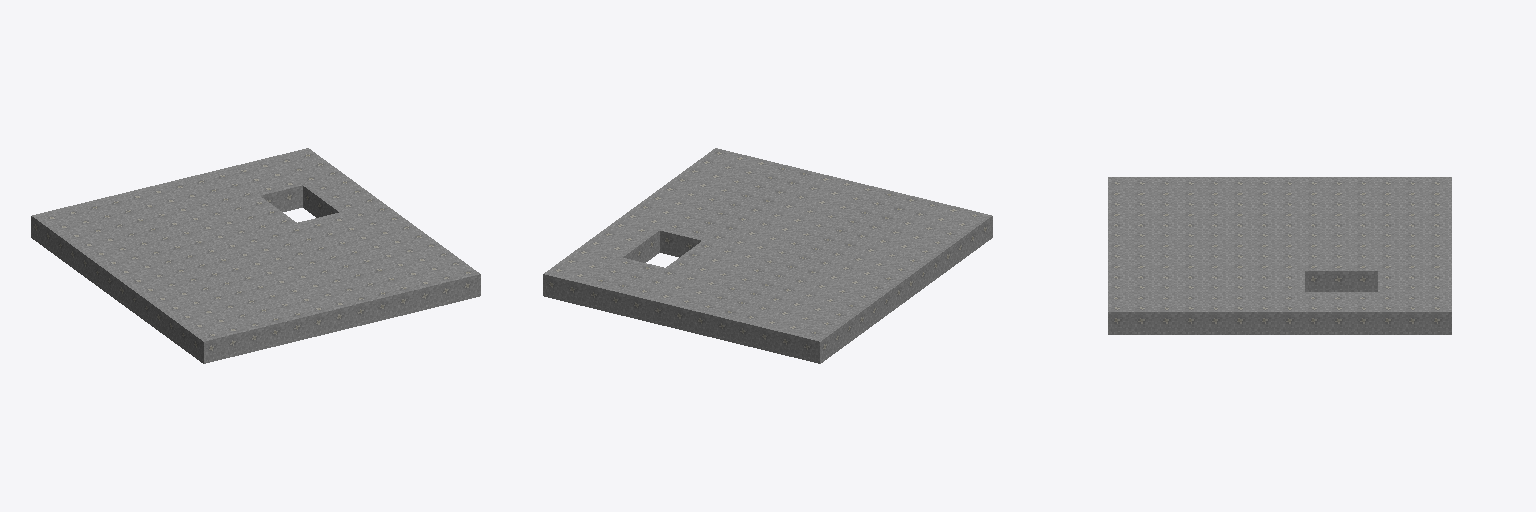
3 renders of one model, left to right at view 1: azimuth 30°, elevation 25°; view 2: azimuth 150°, elevation 25°; view 3: azimuth 270°, elevation 25°, orthographic.
Visible parts, largest first — view 1: Cube.446_Cube.450, Cube.360_Cube.133, Cube.332_Cube.015, Cube.344_Cube.027, Cube.372_Cube.186, Cube.395_Cube.363, Cube.348_Cube.093, Cube.368_Cube.182, Cube.447_Cube.451, Cube.336_Cube.019, Cube.340_Cube.023, Cube.352_Cube.097 (+8 smaller); view 2: Cube.423_Cube.426, Cube.396_Cube.387, Cube.408_Cube.403, Cube.417_Cube.420, Cube.391_Cube.351, Cube.392_Cube.352, Cube.405_Cube.400, Cube.420_Cube.423, Cube.411_Cube.414, Cube.414_Cube.417, Cube.399_Cube.394, Cube.402_Cube.397 (+9 smaller); view 3: Cube.370_Cube.184, Cube.371_Cube.185, Cube.373_Cube.258, Cube.377_Cube.289, Cube.379_Cube.302, Cube.383_Cube.327, Cube.387_Cube.347, Cube.389_Cube.349, Cube.461_Cube.471, Cube.369_Cube.183, Cube.372_Cube.186, Cube.375_Cube.281 (+5 smaller).
Part boxes in pixels (bbox=[...]): Cube.446_Cube.450: bbox=[191, 328, 224, 363]; Cube.360_Cube.133: bbox=[384, 281, 416, 316]; Cube.332_Cube.015: bbox=[234, 317, 267, 353]; Cube.344_Cube.027: bbox=[299, 302, 331, 337]; Cube.372_Cube.186: bbox=[447, 265, 480, 301]; Cube.395_Cube.363: bbox=[269, 176, 302, 211]; Cube.348_Cube.093: bbox=[319, 296, 352, 332]; Cube.368_Cube.182: bbox=[426, 270, 458, 306]; Cube.447_Cube.451: bbox=[213, 322, 245, 358]; Cube.336_Cube.019: bbox=[256, 312, 288, 347]; Cube.340_Cube.023: bbox=[277, 307, 309, 342]; Cube.352_Cube.097: bbox=[341, 291, 373, 326]; Cube.423_Cube.426: bbox=[799, 328, 832, 363]; Cube.396_Cube.387: bbox=[607, 281, 639, 316]; Cube.408_Cube.403: bbox=[692, 302, 724, 337]; Cube.417_Cube.420: bbox=[756, 317, 789, 353]; Cube.391_Cube.351: bbox=[543, 265, 576, 301]; Cube.392_Cube.352: bbox=[565, 270, 597, 306]; Cube.405_Cube.400: bbox=[671, 296, 704, 332]; Cube.420_Cube.423: bbox=[778, 322, 810, 358]; Cube.411_Cube.414: bbox=[714, 307, 746, 342]; Cube.414_Cube.417: bbox=[735, 312, 767, 347]; Cube.399_Cube.394: bbox=[629, 286, 661, 321]; Cube.402_Cube.397: bbox=[650, 291, 682, 326]; Cube.370_Cube.184: bbox=[1157, 302, 1181, 334]; Cube.371_Cube.185: bbox=[1132, 302, 1156, 334]; Cube.373_Cube.258: bbox=[1206, 302, 1230, 334]; Cube.377_Cube.289: bbox=[1255, 302, 1279, 334]; Cube.379_Cube.302: bbox=[1280, 302, 1304, 334]; Cube.383_Cube.327: bbox=[1329, 302, 1353, 334]; Cube.387_Cube.347: bbox=[1378, 302, 1402, 334]; Cube.389_Cube.349: bbox=[1403, 302, 1427, 334]; Cube.461_Cube.471: bbox=[1329, 260, 1353, 291]; Cube.369_Cube.183: bbox=[1182, 302, 1205, 334]; Cube.372_Cube.186: bbox=[1108, 302, 1131, 334]; Cube.375_Cube.281: bbox=[1231, 302, 1254, 334].
Size of the model in its own units: 23.4 by 1.8 by 25.2.
Materials: 1 (1 with a texture image).